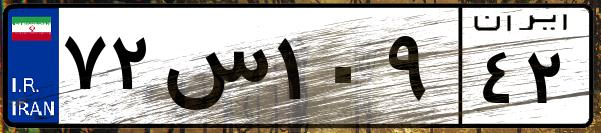0: (330, 28, 385, 110)
1: (270, 28, 330, 110)
2: (525, 38, 570, 115), (110, 28, 158, 98)
4: (475, 38, 525, 113)
7: (57, 26, 110, 100)
9: (385, 28, 445, 110)
س: (158, 20, 270, 120)
